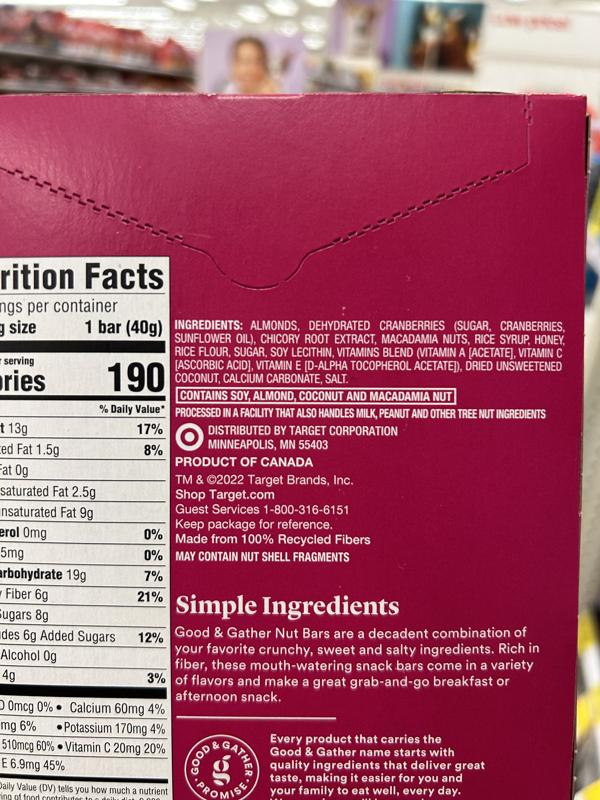ingredients: (173, 318, 565, 385)
